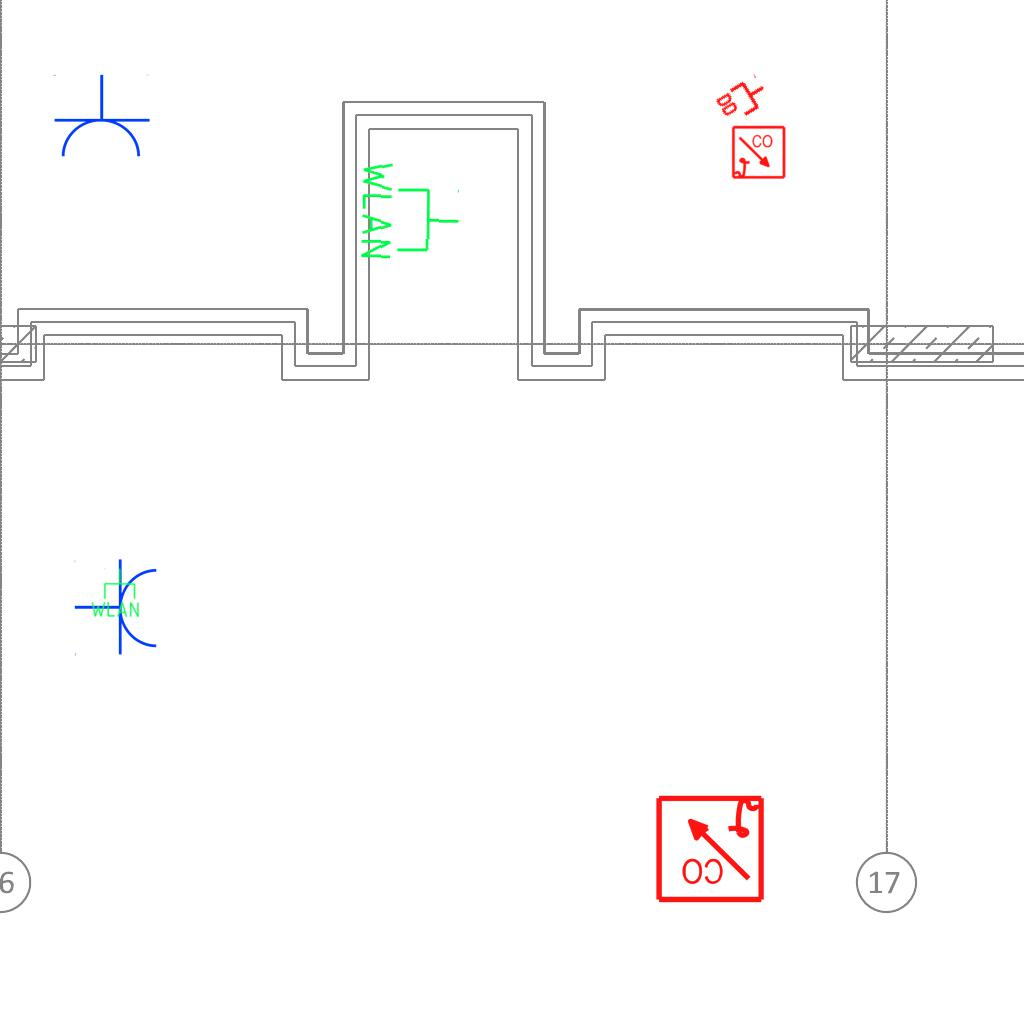Datenanschluss_zweifach: (712, 72, 774, 129)
ROA_Rauchmelder_optisch_mit_Signalgeber_(Sockelsirene): (653, 791, 766, 904), (731, 125, 787, 181)
Schukosteckdose_einfach: (51, 74, 151, 161), (74, 558, 161, 658)
WLAN: (357, 157, 463, 264), (89, 567, 141, 619)
